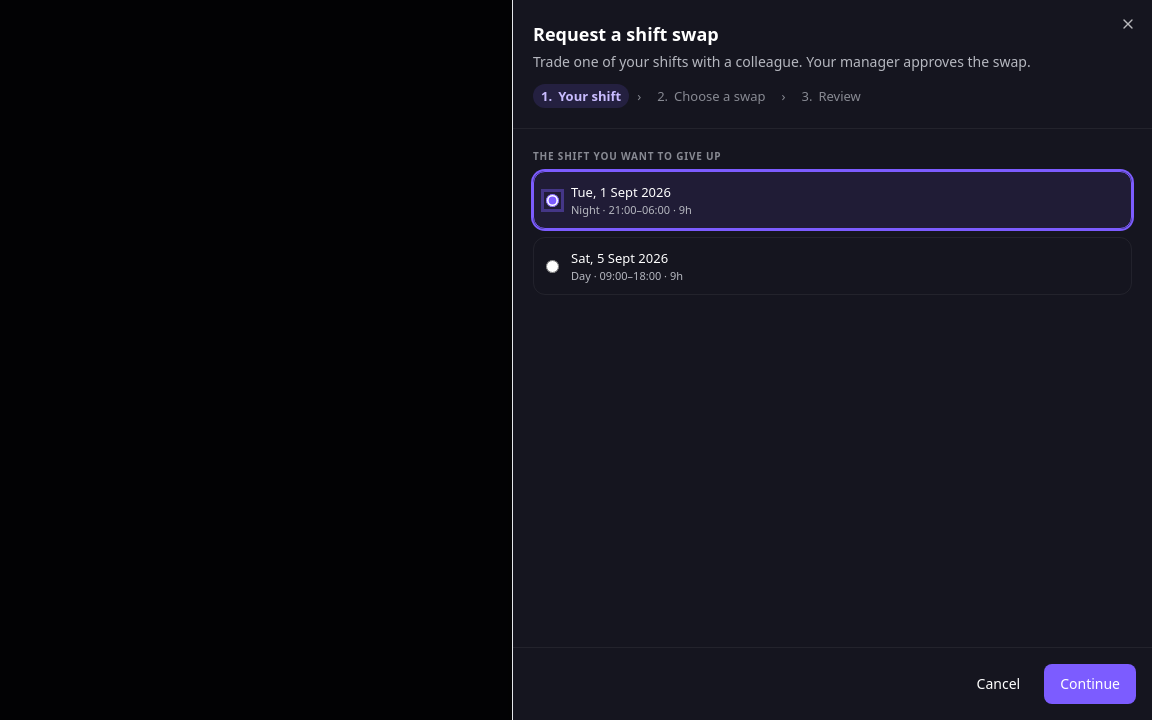
SwapRequestDrawer › blocks selecting an incompatible candidate and shows why
Click the button "Continue".
click(1090, 684)  # box 1044,664 -> 1136,704
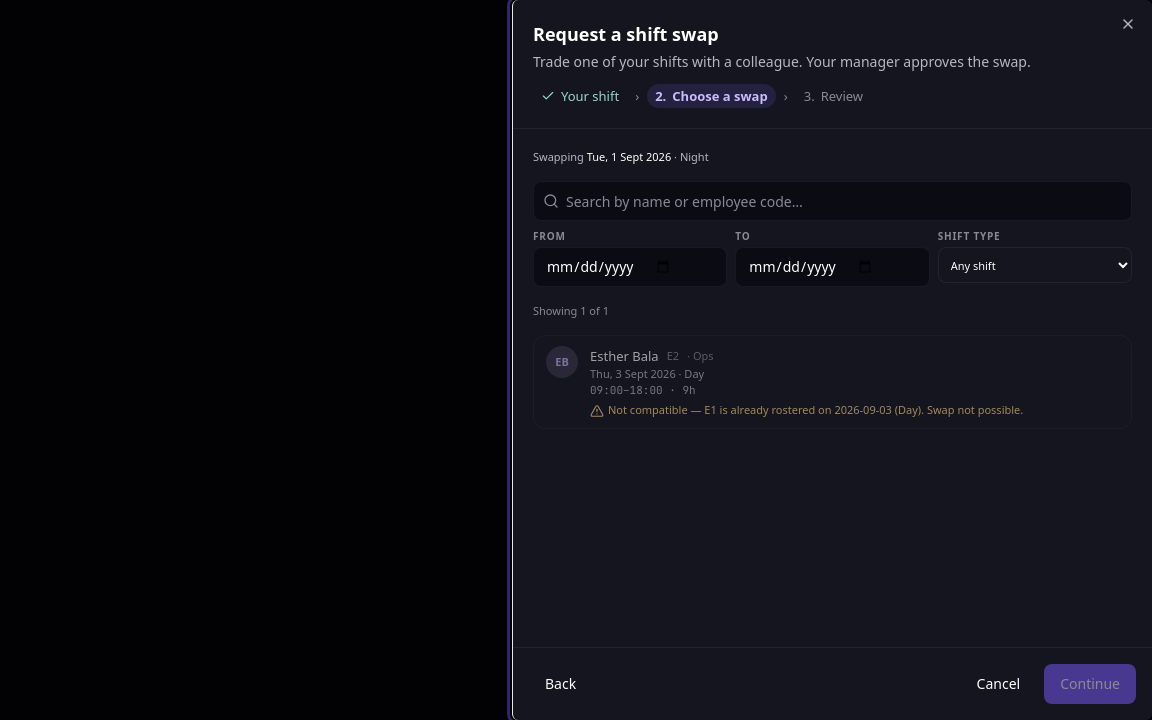
Expected: the button "Esther Bala" is disabled, 533,335 -> 1132,429
Expected: the text "already rostered" is shown, 704,402 -> 1023,417
